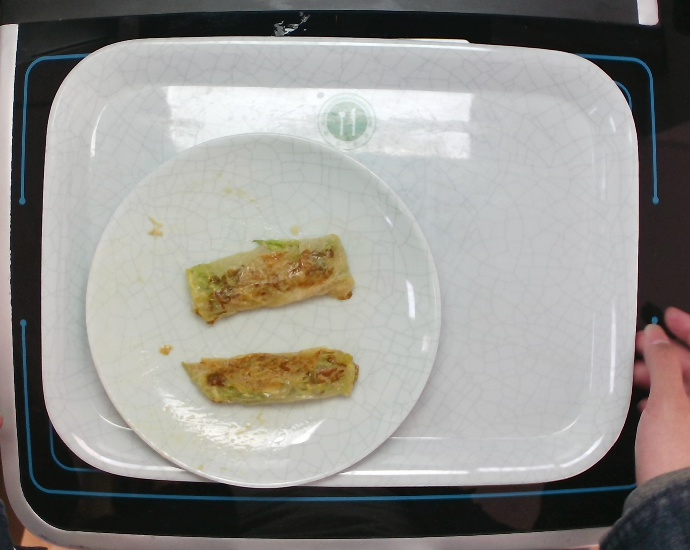JYsf-Da_Yuan_Pan: (80, 127, 447, 493)
